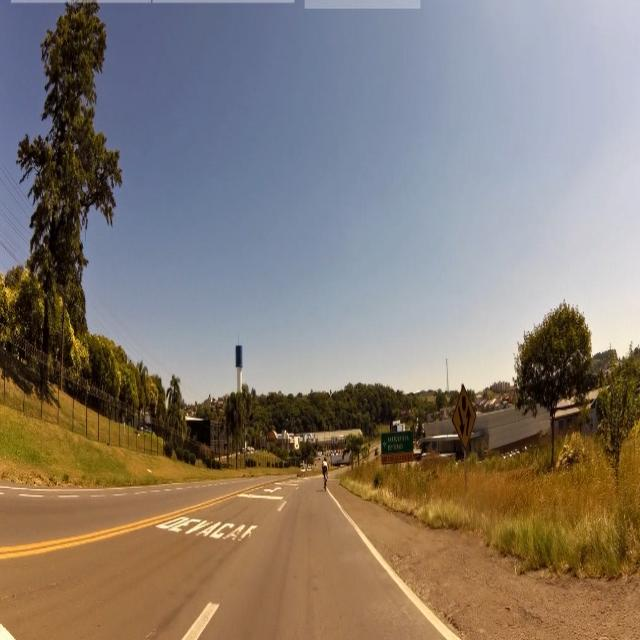A-42a: (452, 381, 478, 448)
